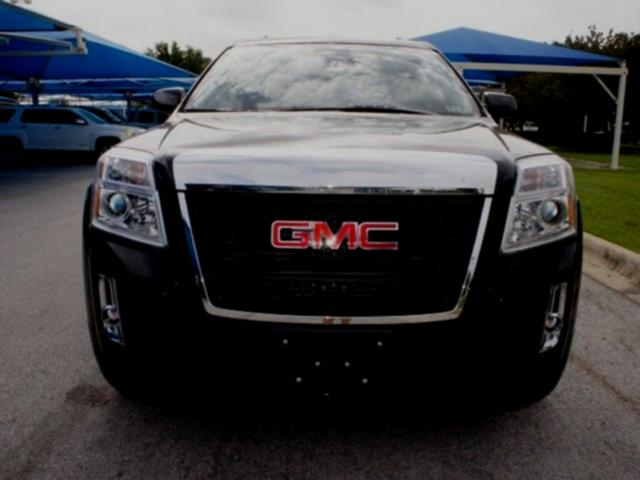GMC: (257, 211, 417, 263)
